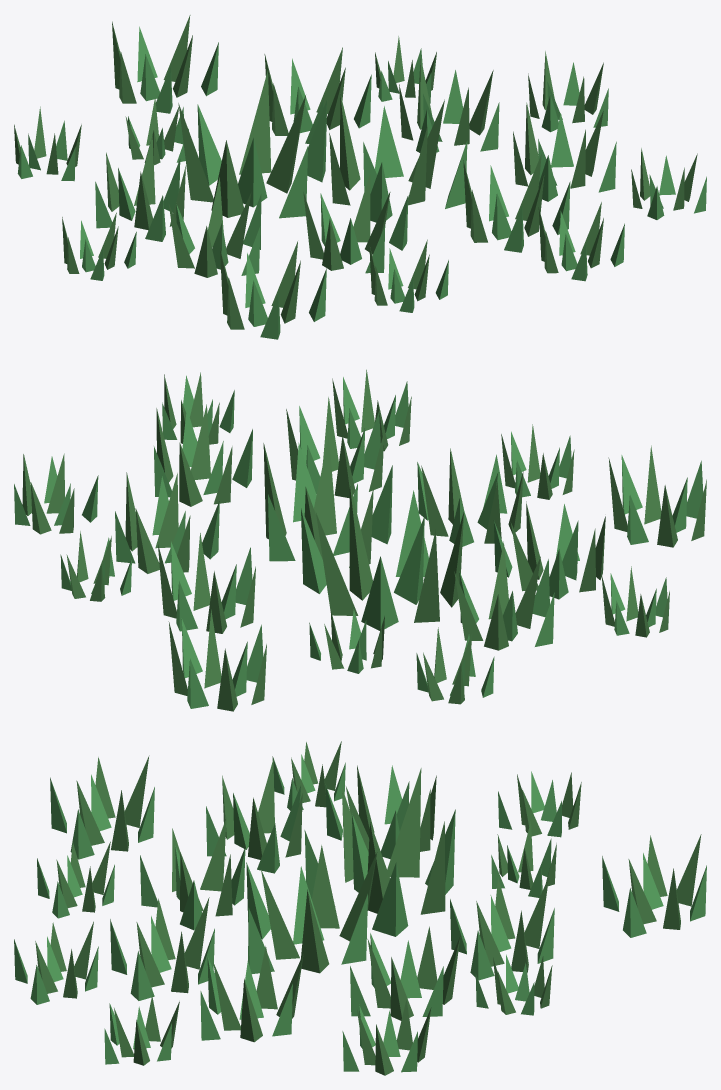
File: grasss.glb
3 views of the same model, one above another, from view 1: azimuth 30°, elevation 25°; view 2: azimuth 150°, elevation 25°; view 3: azimuth 270°, elevation 25° (orthographic). The views are drawn at different scales.
Visible parts, largest first — view 1: grass.016; view 2: grass.016; view 3: grass.016.
Part boxes in pixels (box(x1,y1,x2,y2)): grass.016: box(14, 15, 706, 339); grass.016: box(14, 369, 706, 711); grass.016: box(14, 741, 706, 1075).
Bounding box in the file's own units: 1.35 × 0.2118 × 1.34.
